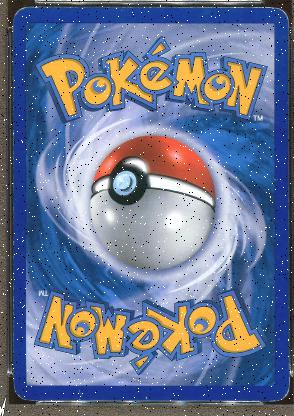Card: (8, 2, 290, 404)
Corner Wear: (265, 376, 288, 402), (10, 5, 37, 21), (14, 389, 40, 401), (269, 6, 288, 22)
Edge Wear: (33, 6, 152, 8), (12, 268, 14, 356), (171, 6, 266, 7), (285, 338, 287, 378), (12, 240, 15, 260), (12, 201, 14, 224), (12, 106, 14, 127), (12, 129, 13, 169), (12, 174, 14, 194), (12, 70, 13, 104), (12, 44, 13, 66), (285, 305, 287, 309), (286, 268, 287, 272)
Scratch: (18, 249, 25, 261), (75, 387, 83, 397), (131, 378, 136, 382), (144, 396, 147, 399)
